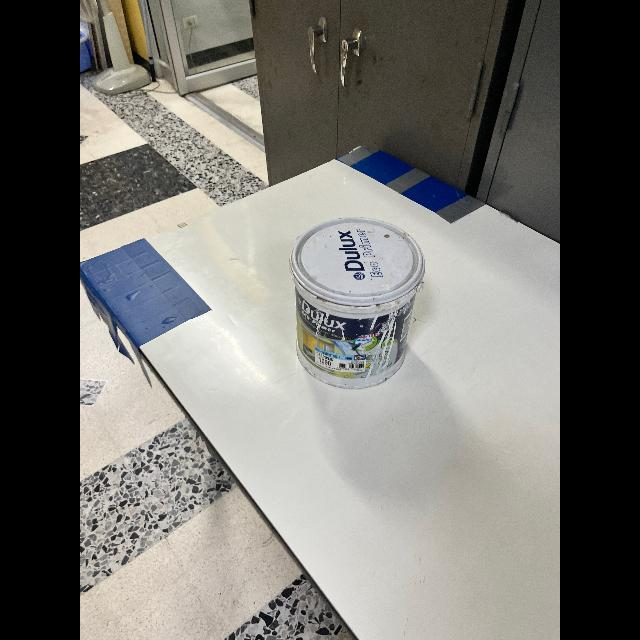paint_bucket: (285, 210, 431, 398)
